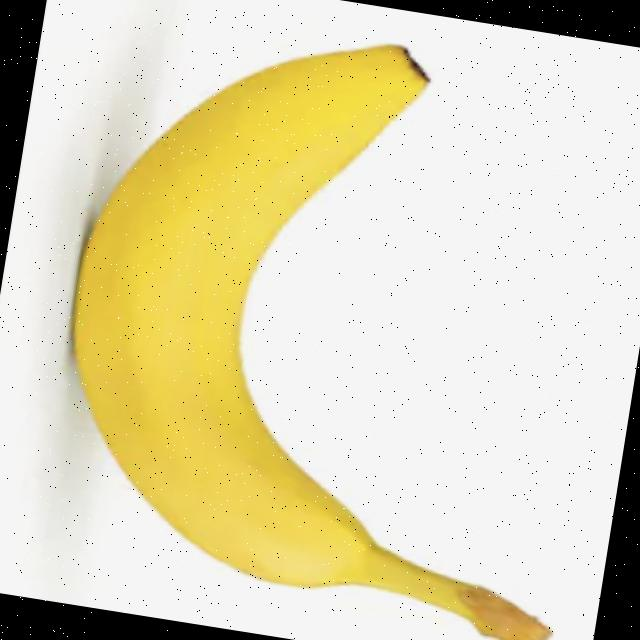Ripe: (33, 0, 576, 619)
